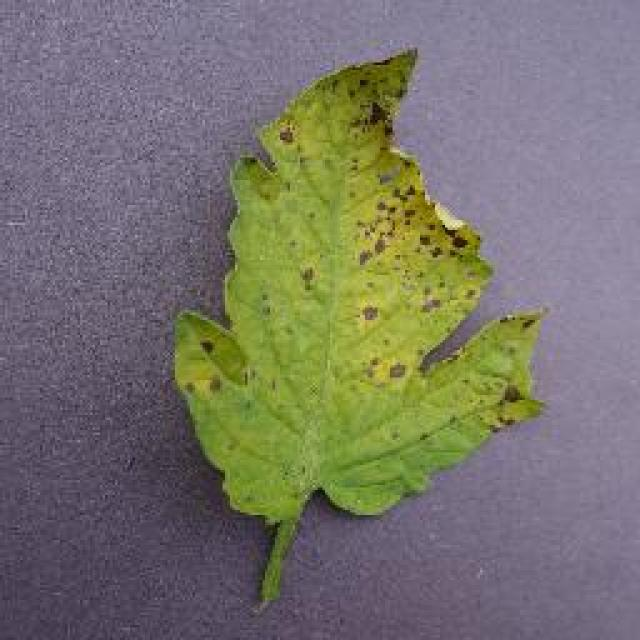Tomato___Septoria_leaf_spot: (172, 50, 540, 602)
